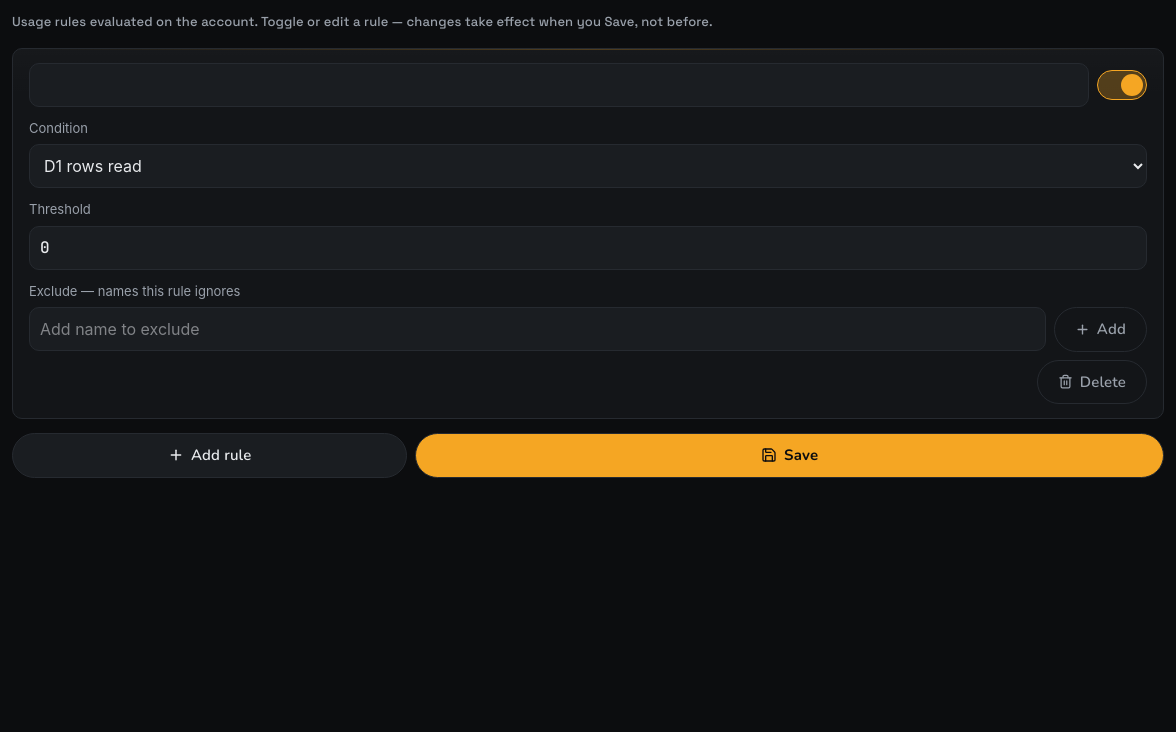
Test: RulesView (P-06) › client validation: saving an empty draft highlights the card and shows the action-bar error, no PUT
This screenshot has width=1176, height=732.
Expected: the element with class "cf-rule" is shown, [12, 48, 1164, 419]
Click the button with class "cf-btn-primary". click: (790, 455)
box: [415, 433, 1164, 478]
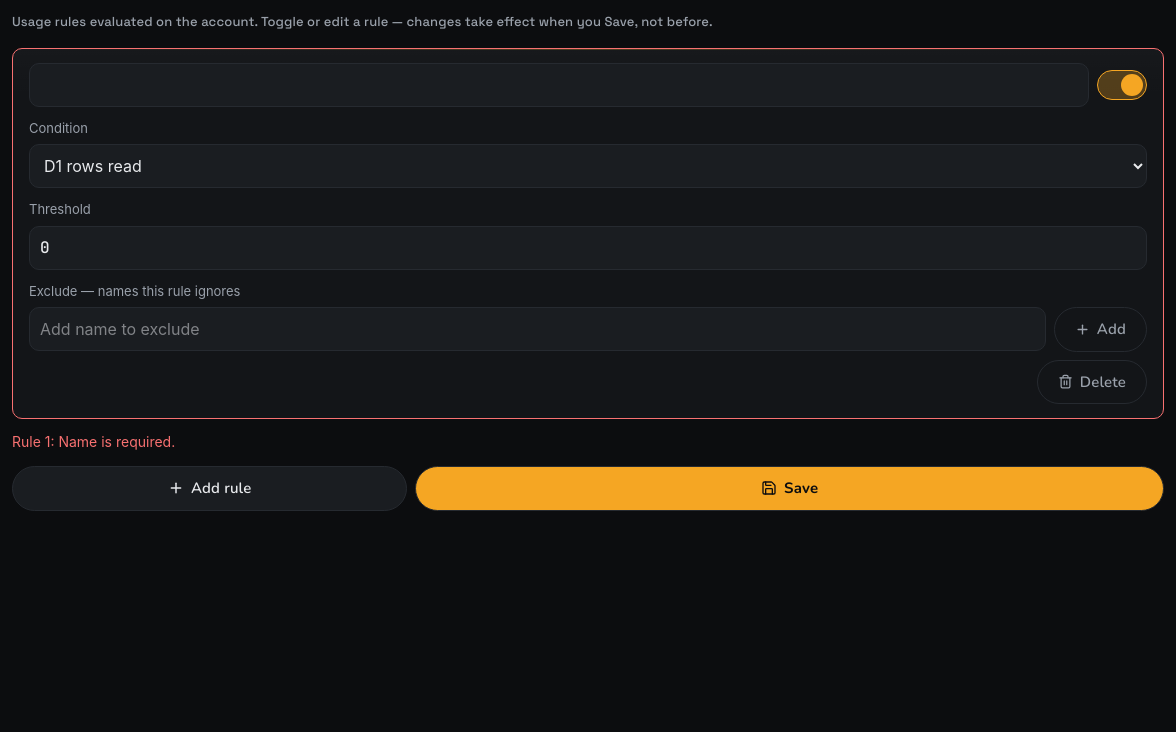
Expected: the message with class "cf-save-error" reads "Rule 1: Name is required.", [12, 433, 175, 450]
